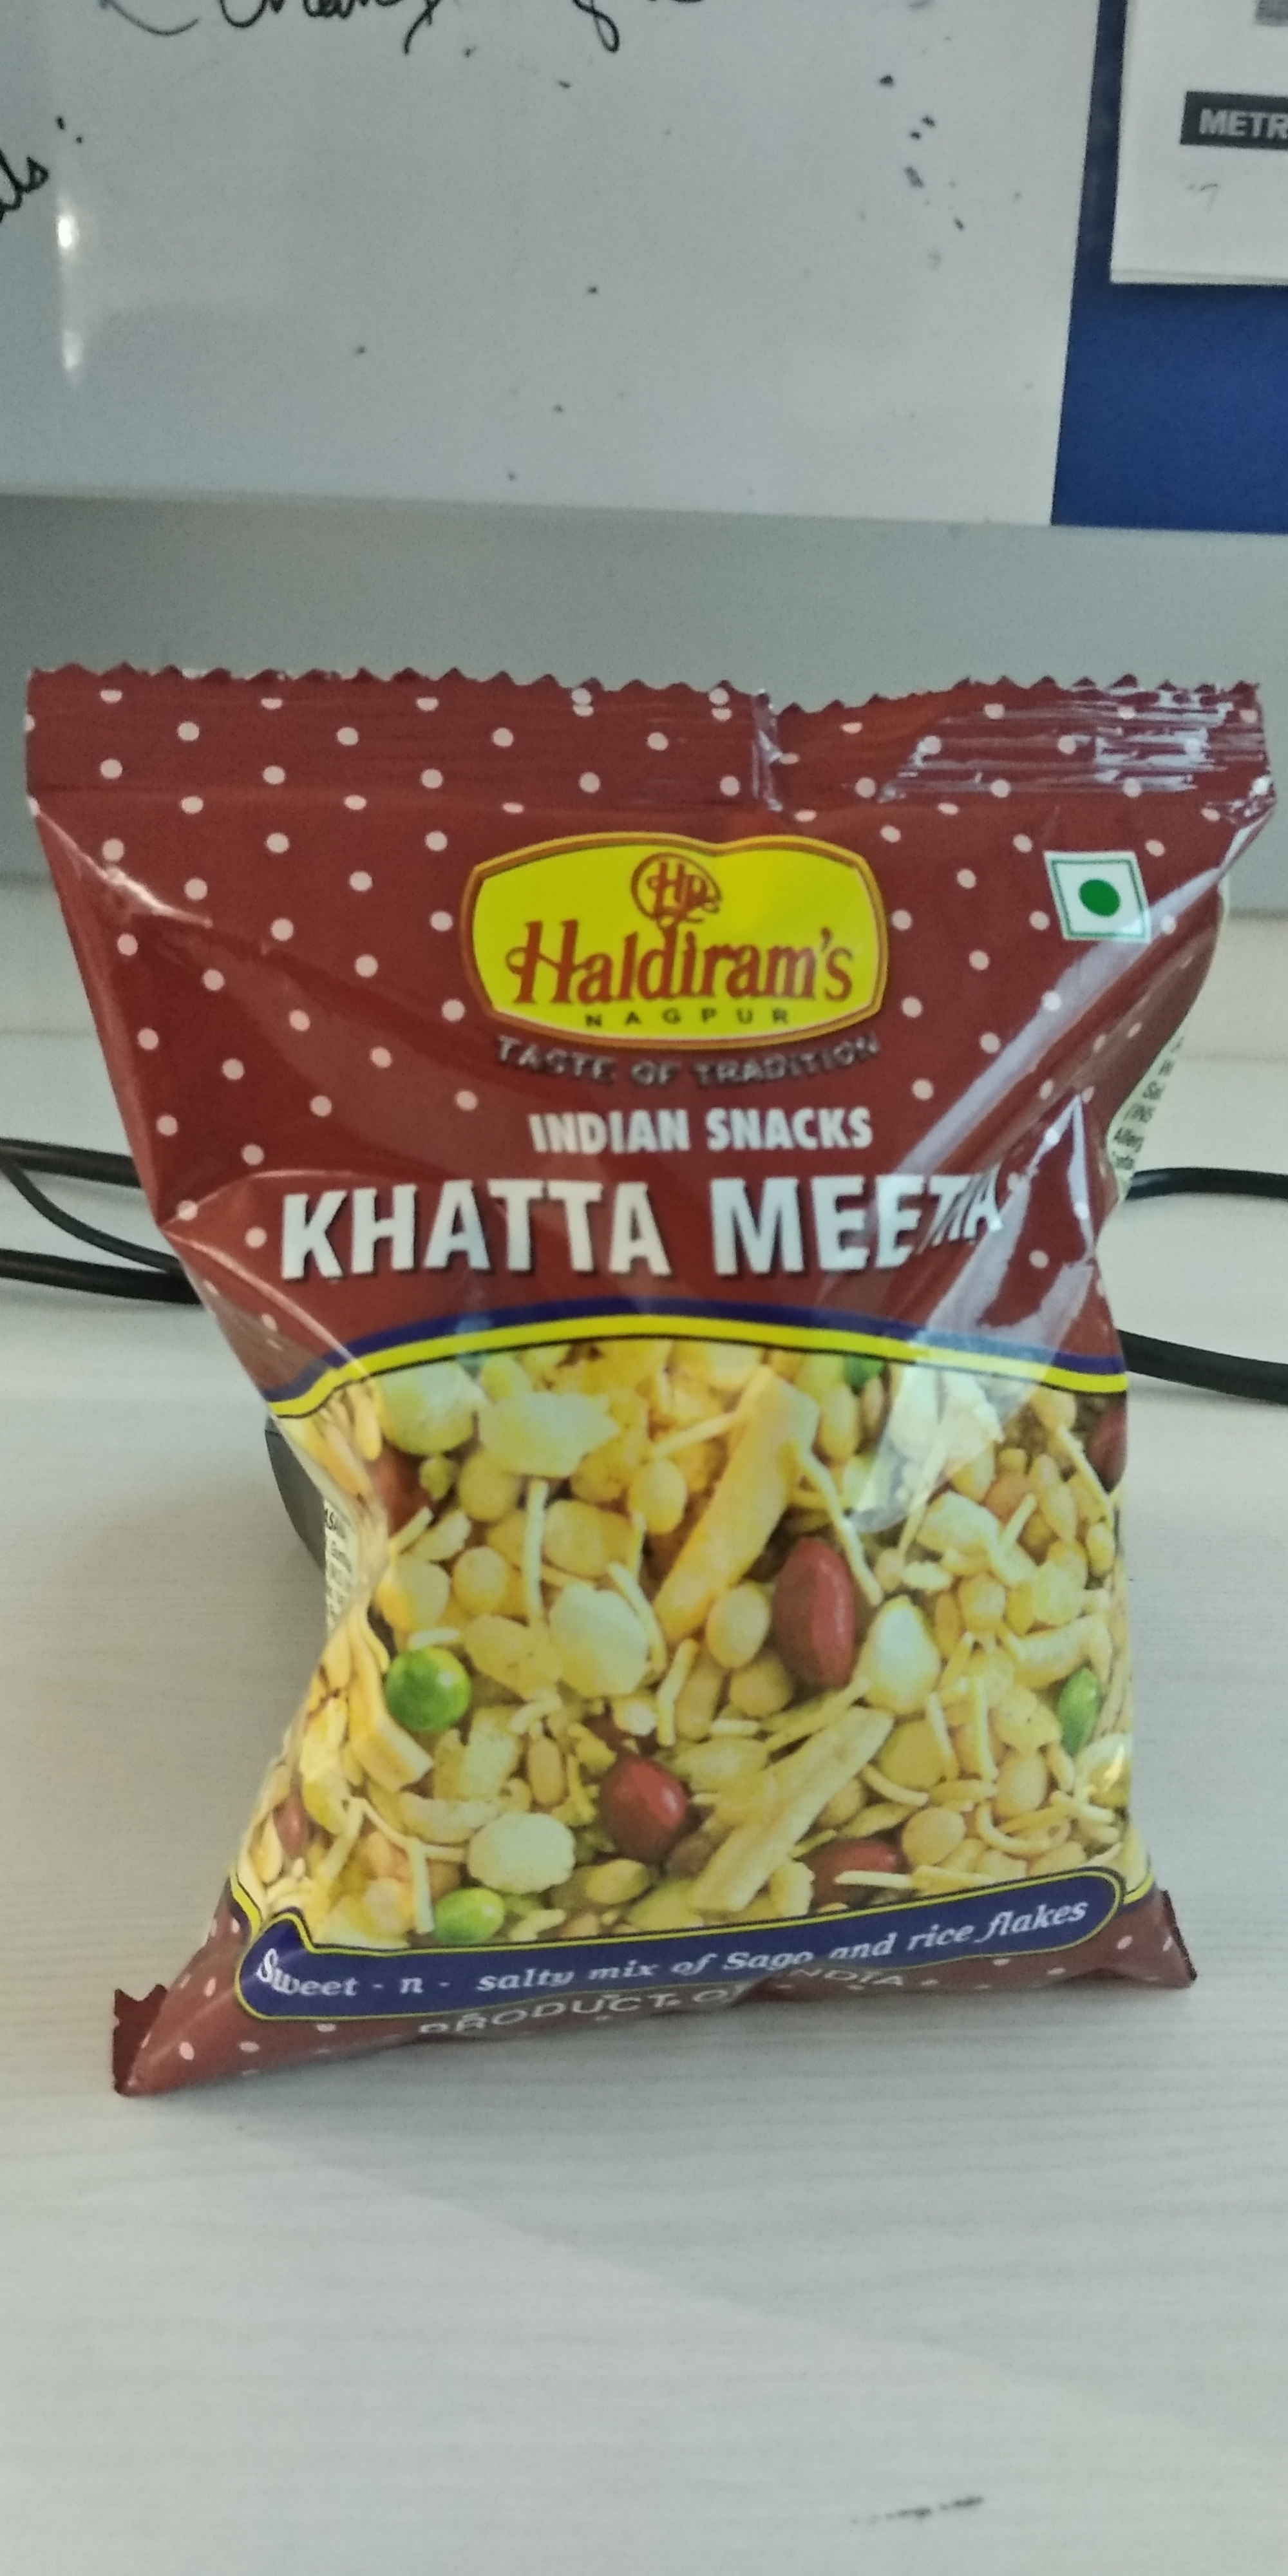khataMeetha: (30, 651, 1278, 2123)
